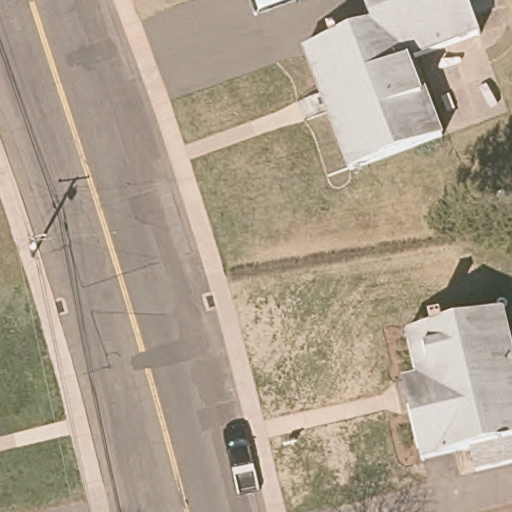DT: (27, 202, 61, 258)
